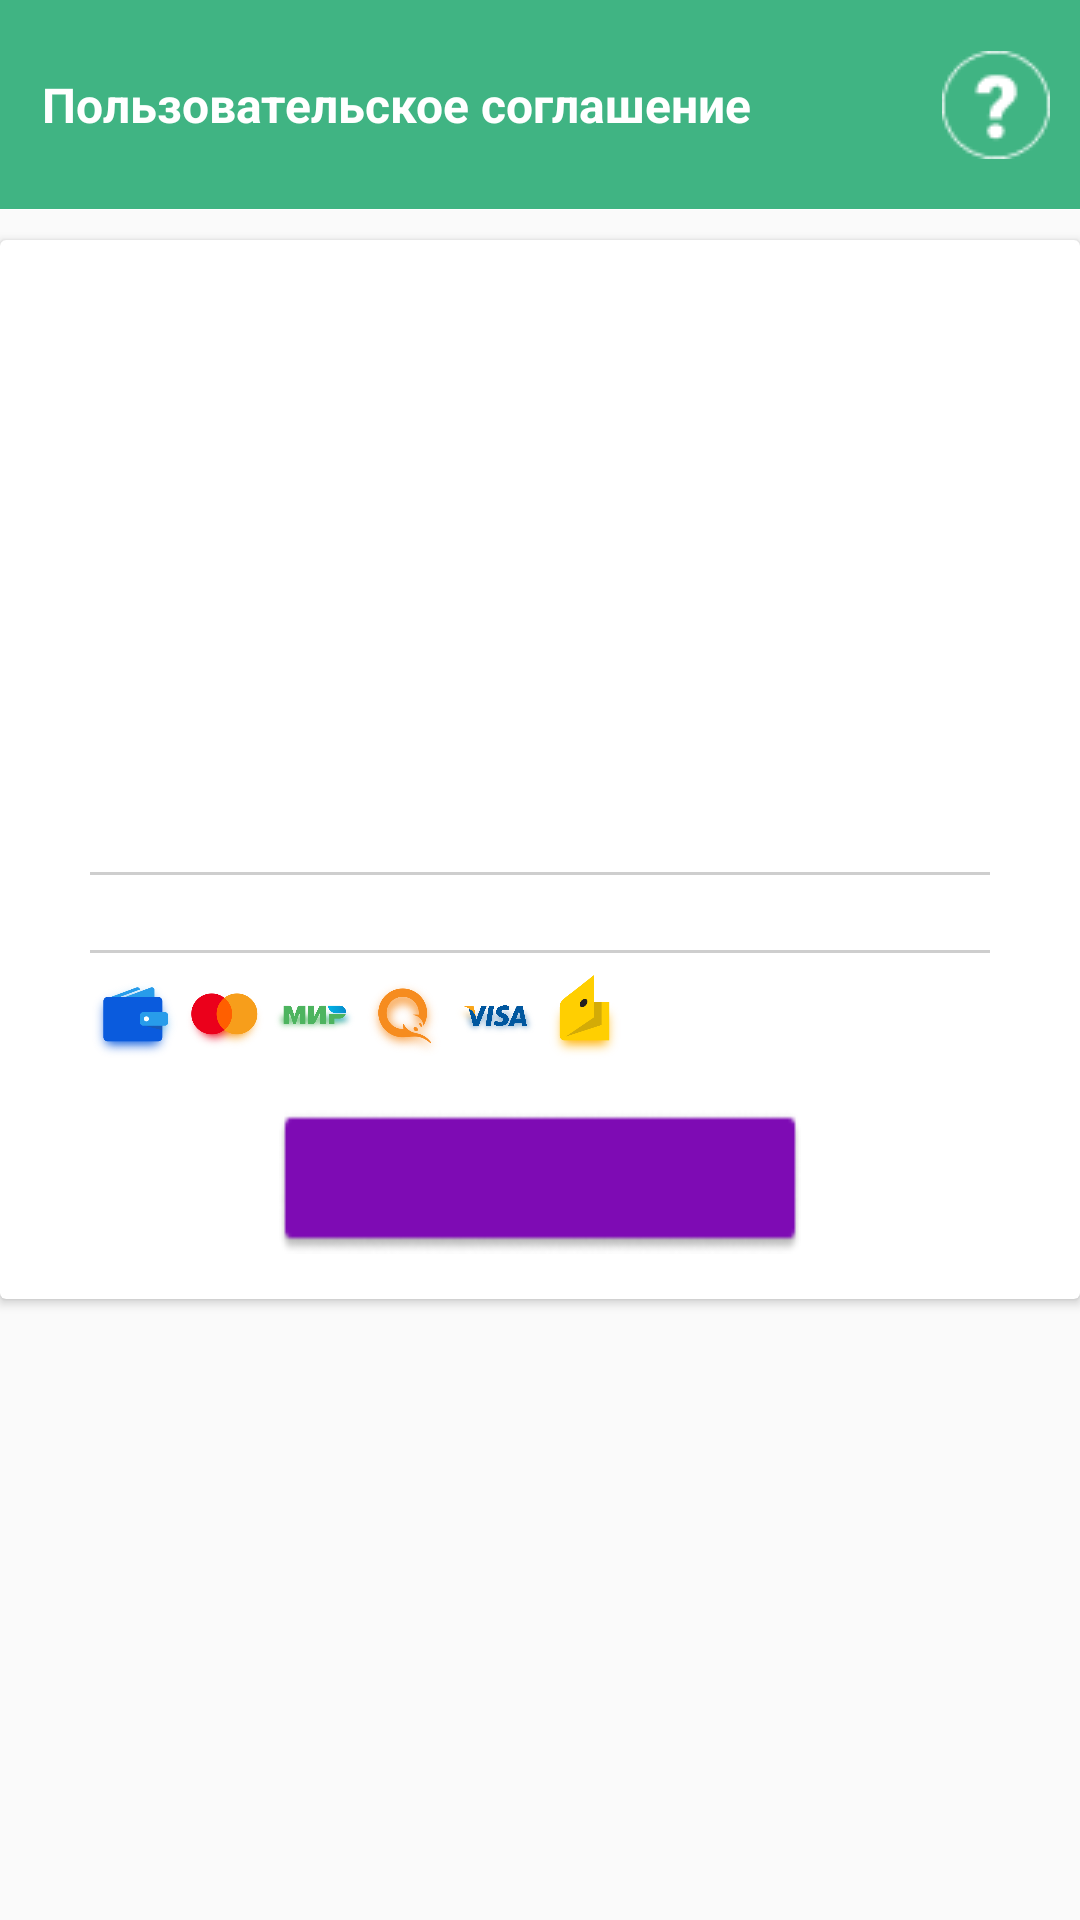

Named icons in this screenshot (1080 × 1920) and their centers, (x=x, y=y):
cash: (x=134, y=1019)
inf: (x=996, y=105)
